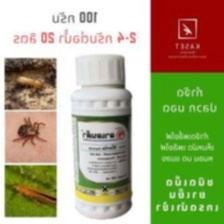insecticide: (65, 51, 134, 222)
